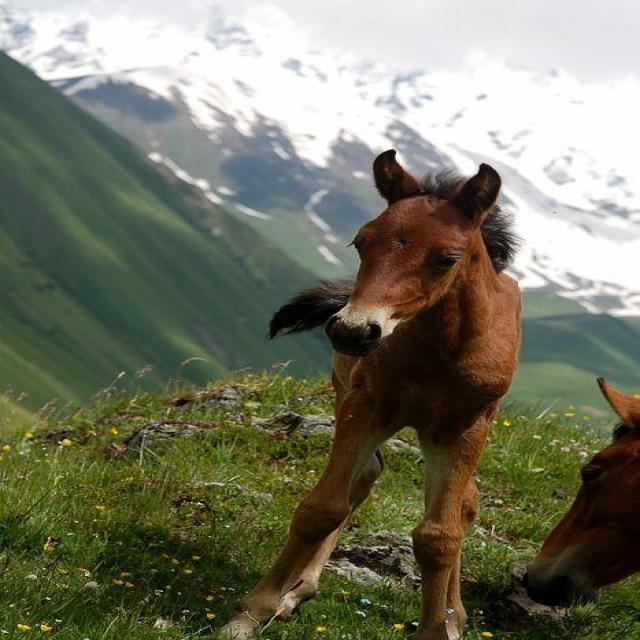horse: (214, 148, 523, 638), (520, 376, 638, 609)
